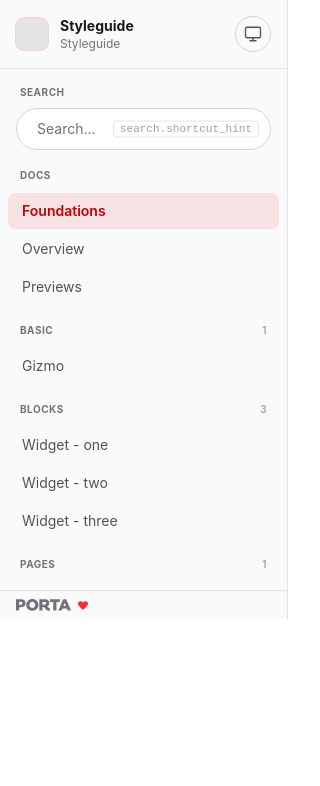
Test case: Sidebar — pages grouped by category › keeps the flat page list without pagesGroupBy
The width and height of the screenshot is (320, 786).
Step 1. Click the button "Pages 1" → (38, 564), box top-left (8, 551), bottom-right (279, 578)
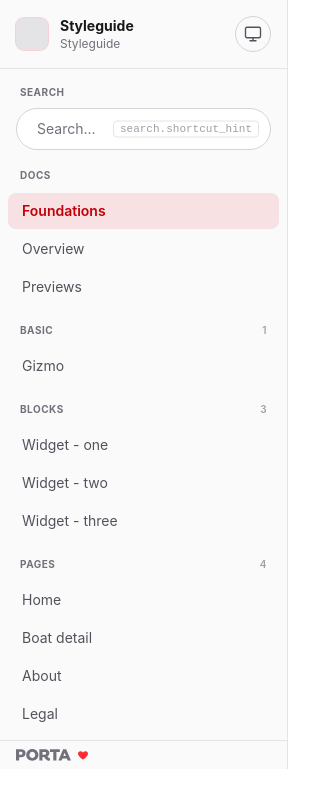
Expected: the text "Boat detail" is shown, top-left (22, 629), bottom-right (92, 646)
